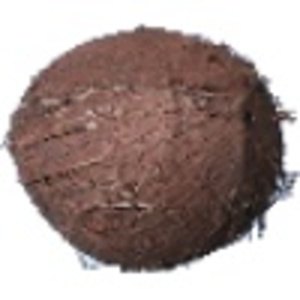coco: (1, 26, 300, 272)
